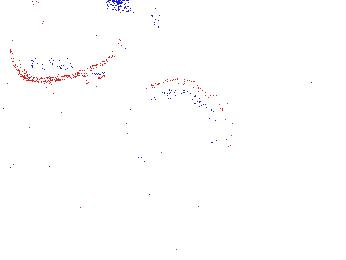moon jellyfish: (119, 80, 233, 192), (10, 1, 124, 84)
